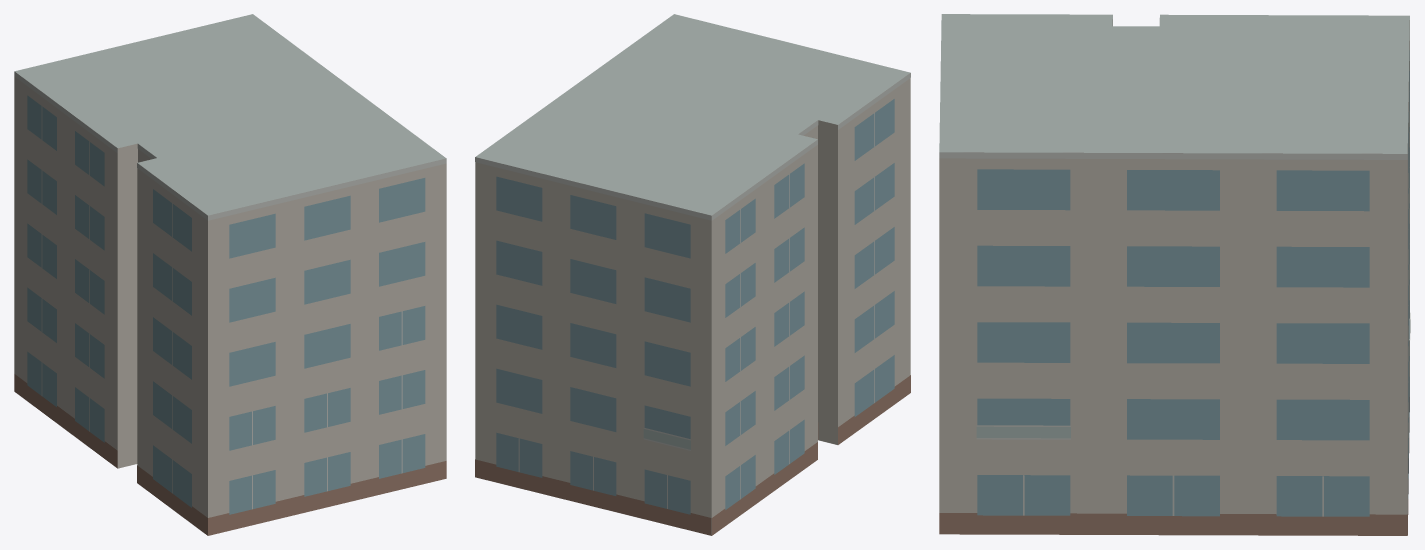
File: survey-upis-33032962.glb
3 renders of one model, left to right at view 1: azimuth 30°, elevation 25°; view 2: azimuth 150°, elevation 25°; view 3: azimuth 270°, elevation 25°, orthographic. The views are drawn at different scales.
Parts seen in each view (by area): view 1: survey-upis-33032962.tmp; view 2: survey-upis-33032962.tmp; view 3: survey-upis-33032962.tmp.
Boxes of the visible parts, box(x1,y1,x2,y2) form: survey-upis-33032962.tmp: box(14, 14, 446, 535); survey-upis-33032962.tmp: box(475, 14, 910, 535); survey-upis-33032962.tmp: box(939, 14, 1410, 535).
Size of the model in its own units: 12.02 by 15.3 by 17.12.
